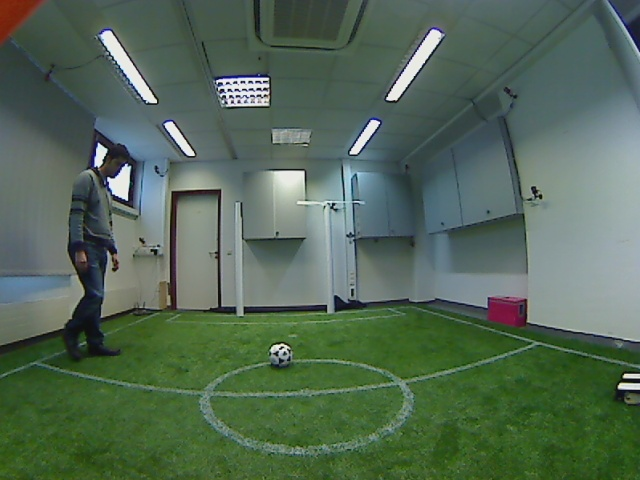ball: (264, 338, 295, 371)
